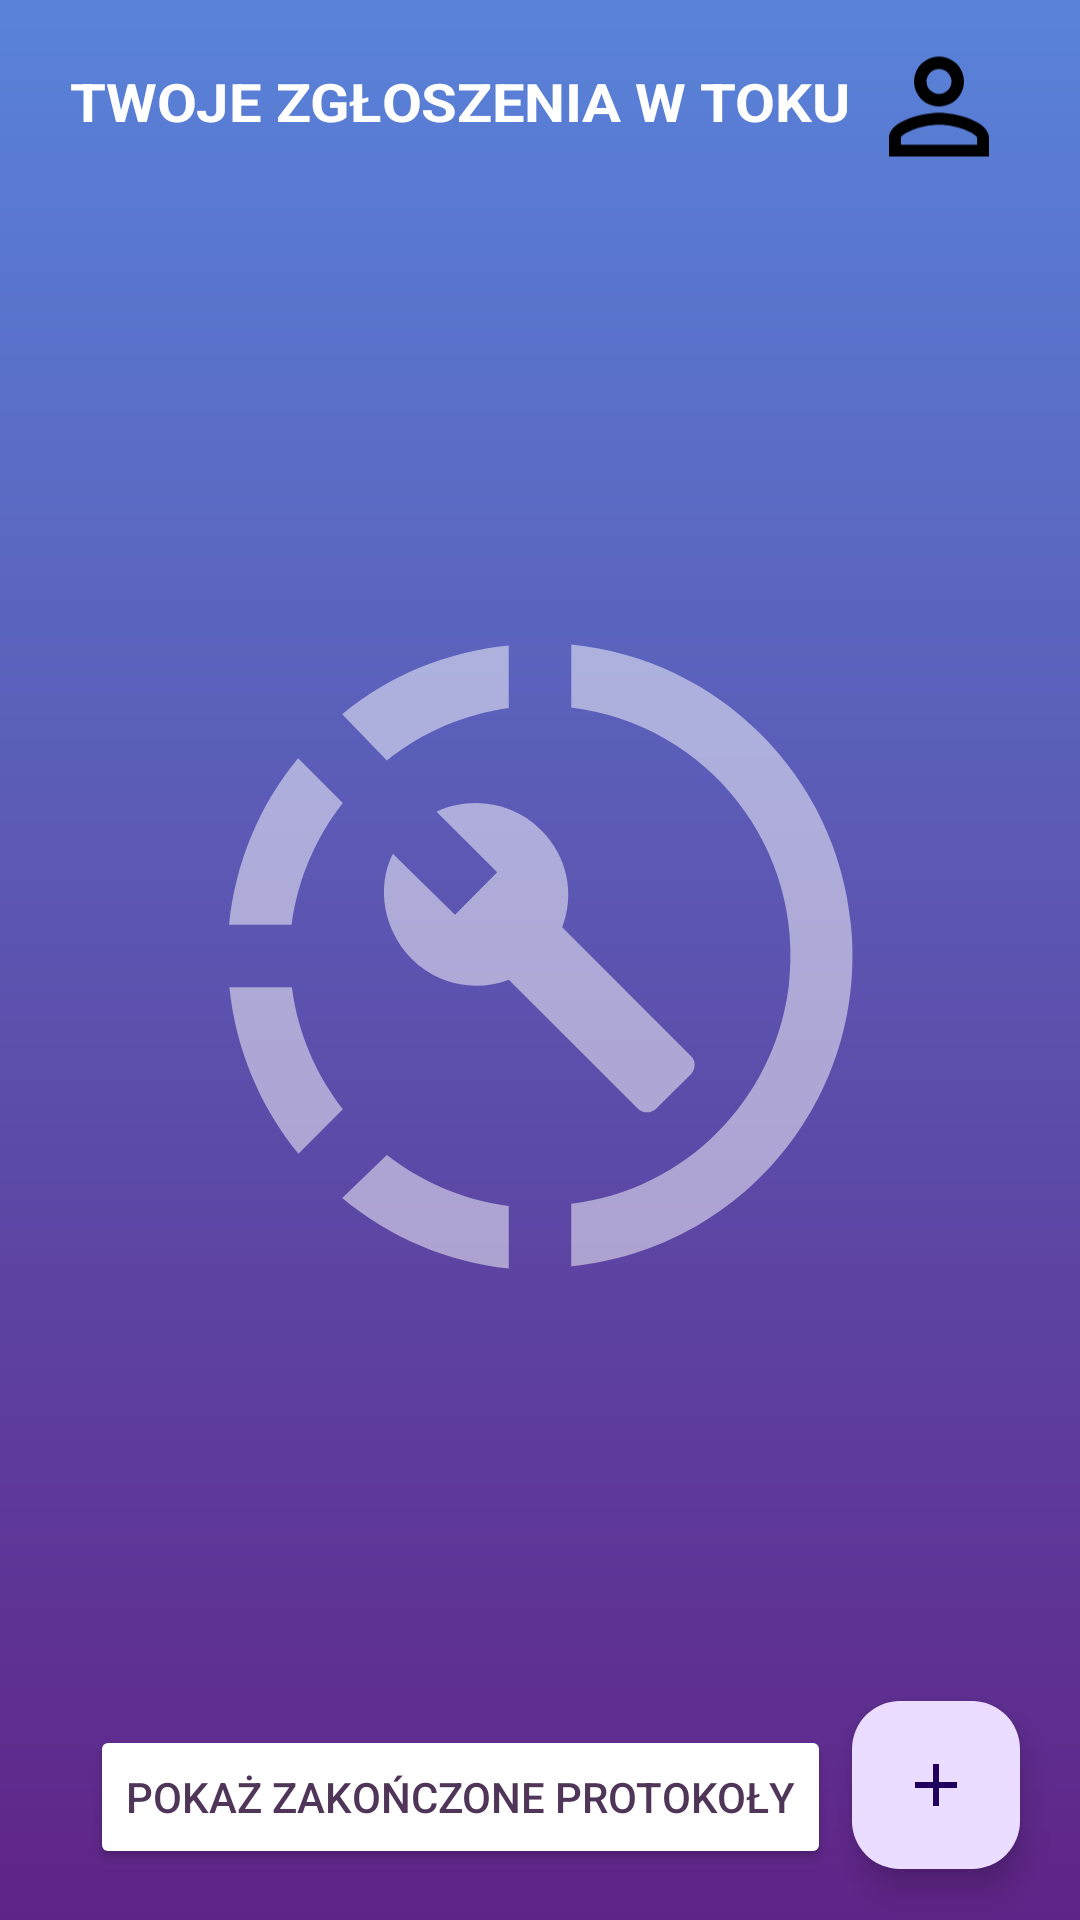

Named icons in this screenshot (1080px x 1920px) and their centers, (x=x, y=y):
account: (x=939, y=106)
add: (x=936, y=1785)
